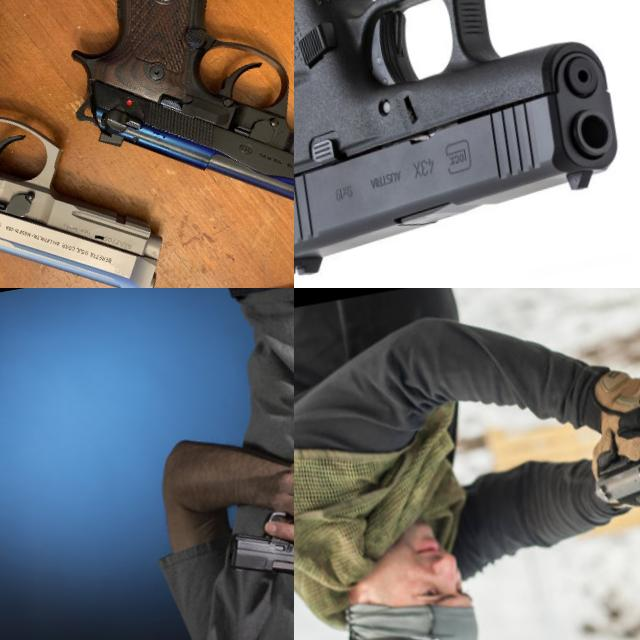handgun: (294, 0, 635, 288), (32, 0, 294, 288), (0, 0, 185, 288), (211, 485, 294, 609), (582, 421, 640, 509)
